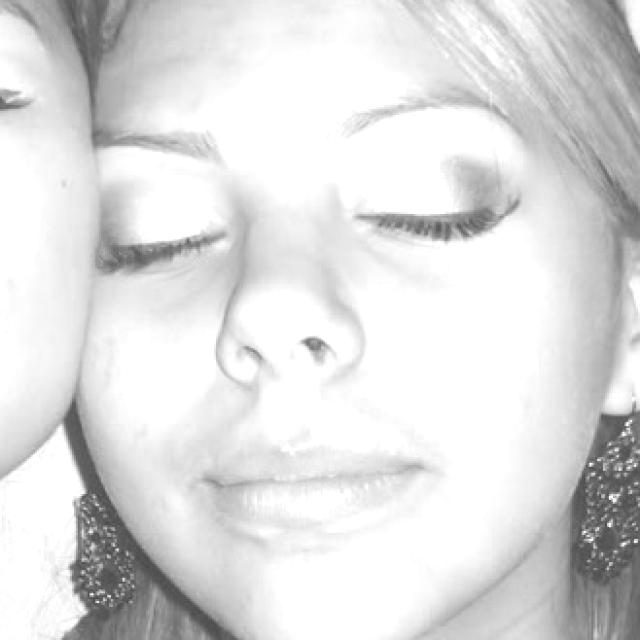real: (77, 44, 622, 640), (104, 150, 567, 271)
